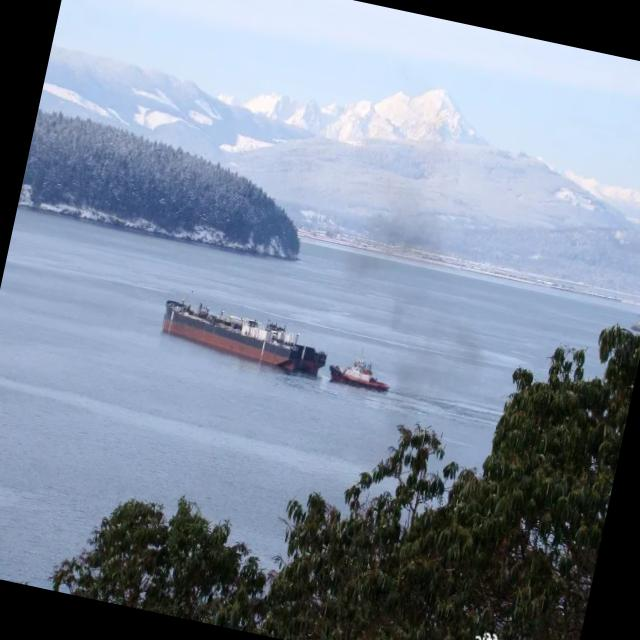Tanker: (163, 301, 326, 375)
Tug: (330, 359, 389, 391)
